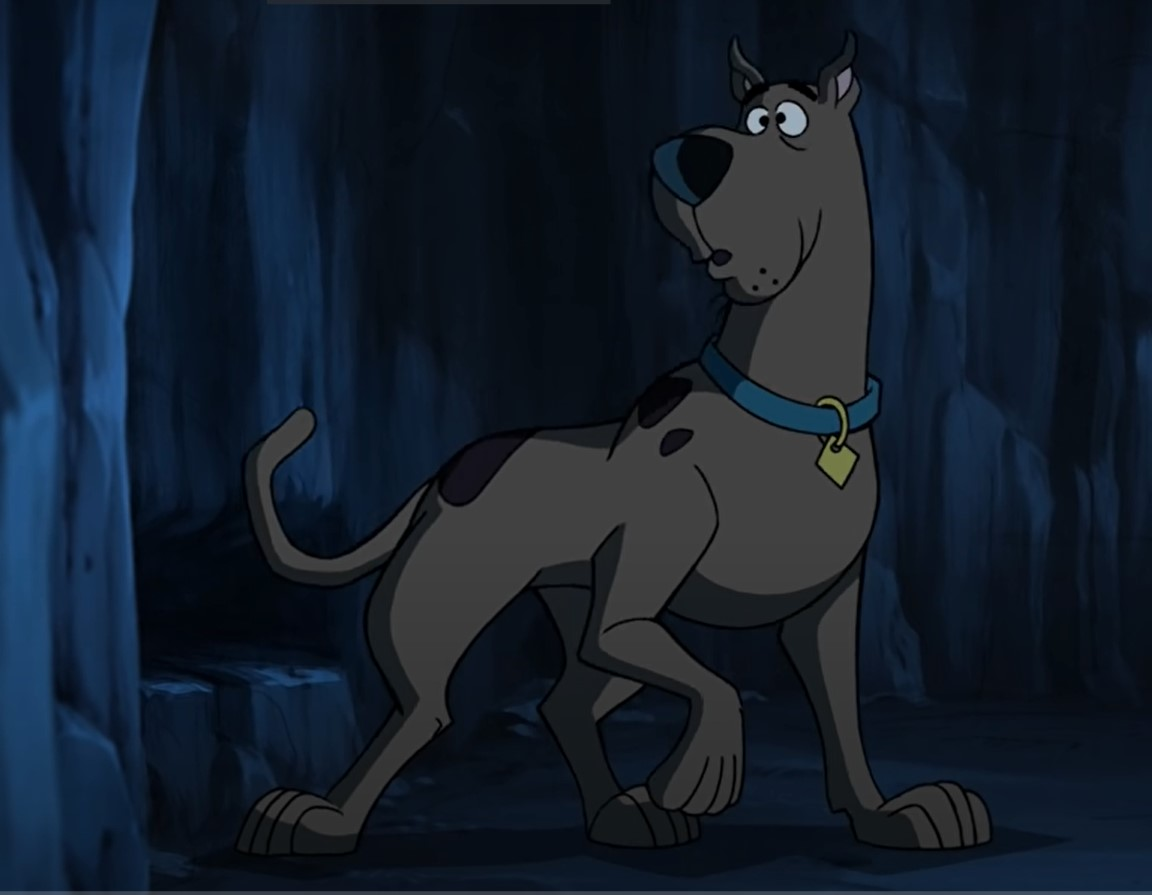scooby: (237, 27, 1001, 864)
